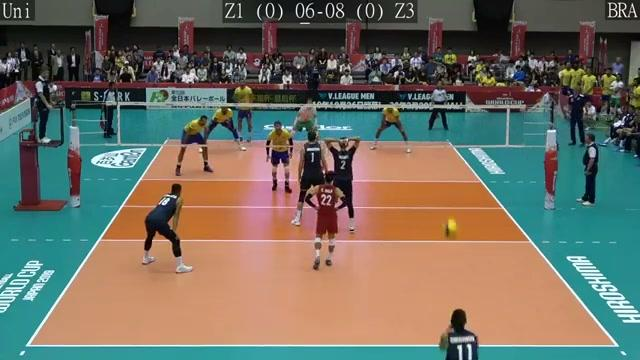ball: (440, 219, 459, 239)
